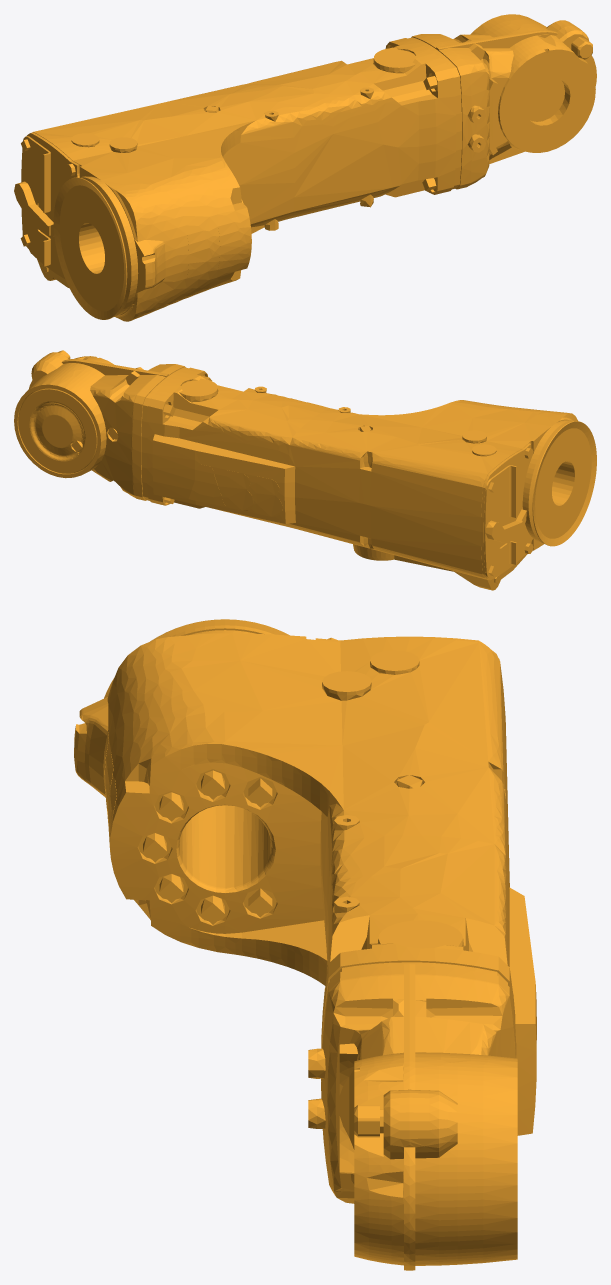
The model's file is ABBIRB1660IDLink4.dae.
3 views of the same model, one above another, from view 1: azimuth 30°, elevation 25°; view 2: azimuth 150°, elevation 25°; view 3: azimuth 270°, elevation 25° (orthographic). The views are drawn at different scales.
Parts seen in each view (by area): view 1: IRB1660IDLink5; view 2: IRB1660IDLink5; view 3: IRB1660IDLink5.
Boxes of the visible parts, box(x1,y1,x2,y2) form: IRB1660IDLink5: box(14, 14, 596, 321); IRB1660IDLink5: box(14, 350, 596, 590); IRB1660IDLink5: box(74, 619, 536, 1270).
Size of the model in its own units: 0.614 by 0.2509 by 0.1541.
